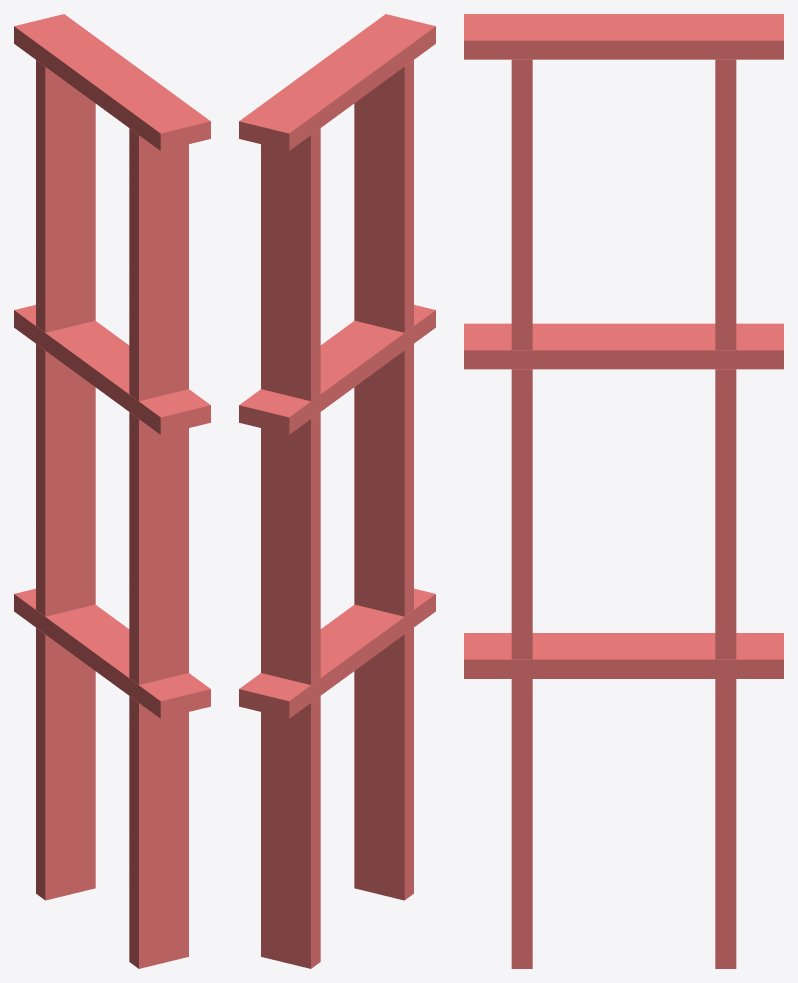
File: keva_triple_pi_structure.dae
The picture shows the model from 3 angles, left to right: view 1: azimuth 30°, elevation 25°; view 2: azimuth 150°, elevation 25°; view 3: azimuth 270°, elevation 25°; orthographic projection. The views are drawn at different scales.
Parts seen in each view (by area): view 1: base (×9); view 2: base (×9); view 3: base (×9).
Boxes of the visible parts, bbox=[...] form: base (×9): bbox=[14, 14, 210, 968]; base (×9): bbox=[239, 14, 435, 968]; base (×9): bbox=[464, 14, 783, 968].
Size of the model in its own units: 0.0232 by 0.1177 by 0.3768.
